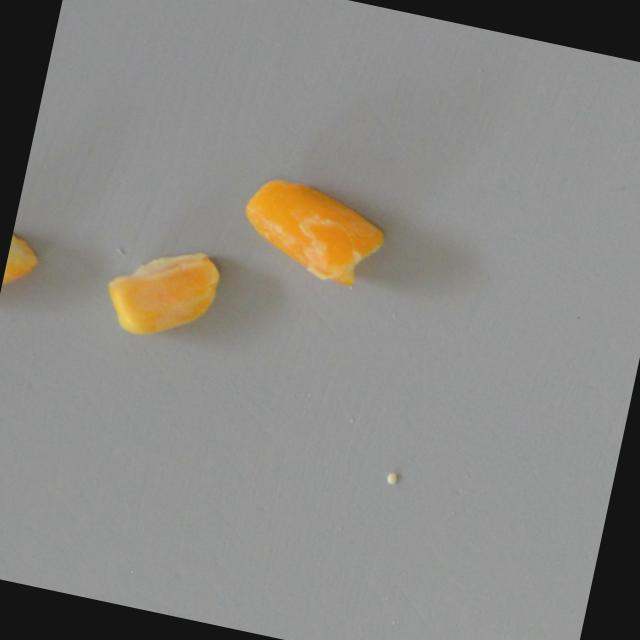estandar: (0, 229, 44, 316)
pelicula: (232, 171, 395, 295), (100, 234, 227, 350)
